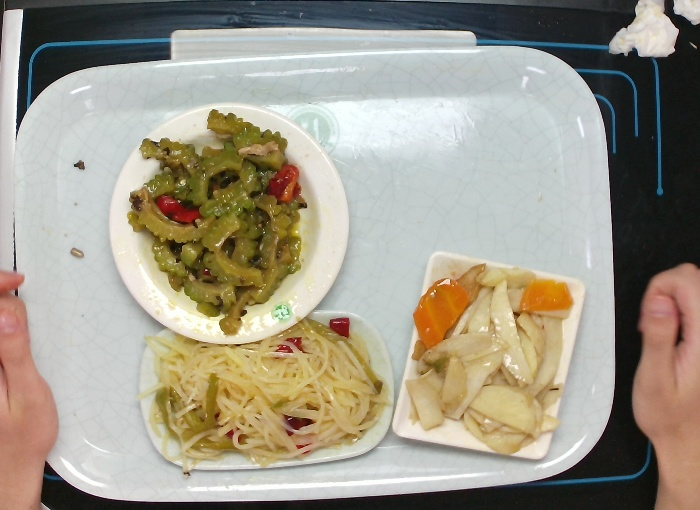WCQzf-Bai_Se_Si_Fang_Die: (388, 251, 585, 467)
WCQzf-Kuan_Bian_Yuan_Die: (112, 102, 352, 346)
WCQzf-Tuo_Yuan_Pan: (138, 304, 395, 474)
